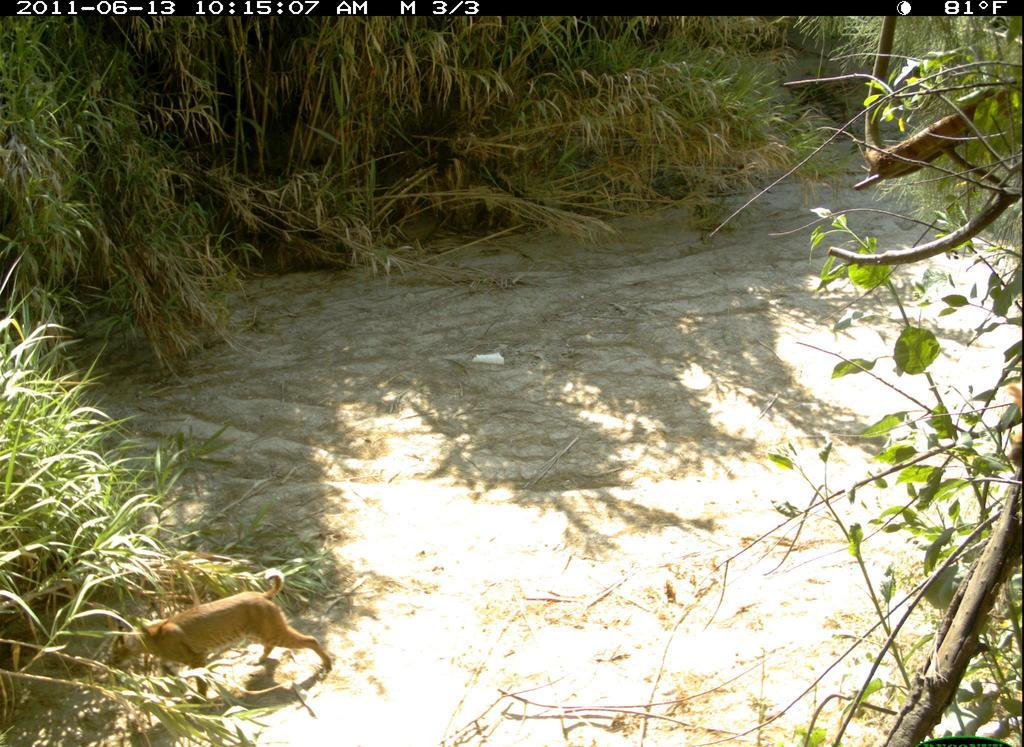bobcat: (99, 564, 341, 707)
